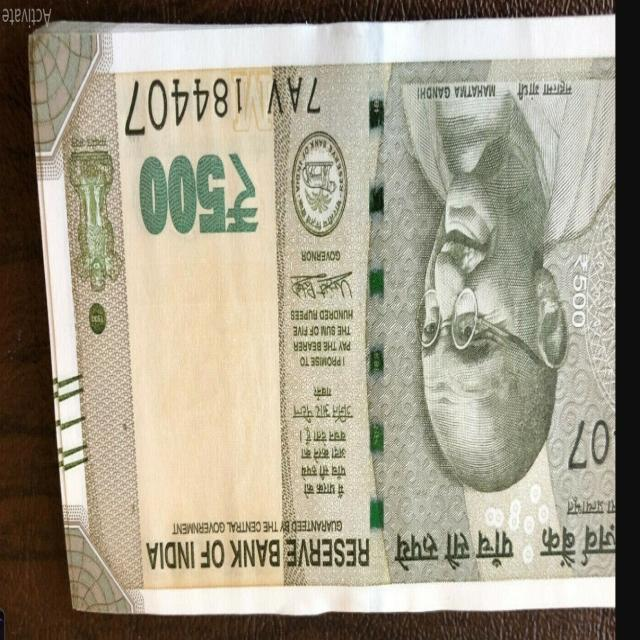500IndianRupees: (50, 23, 618, 611)
